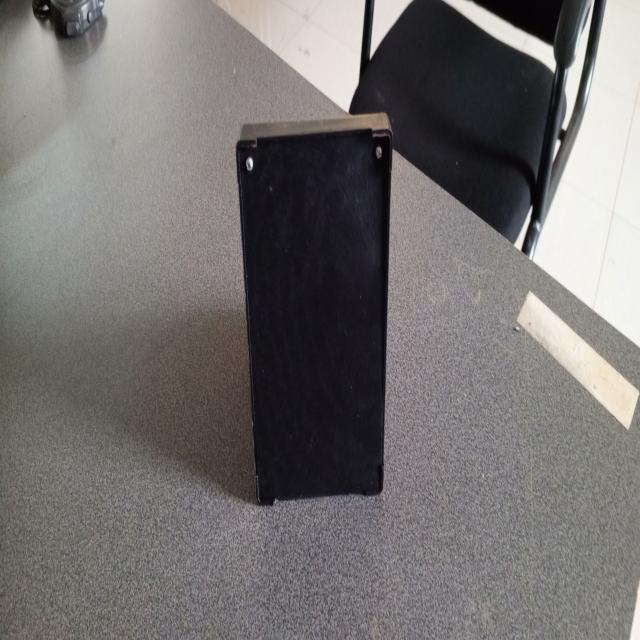Ammeter Analog: (228, 121, 401, 507)
